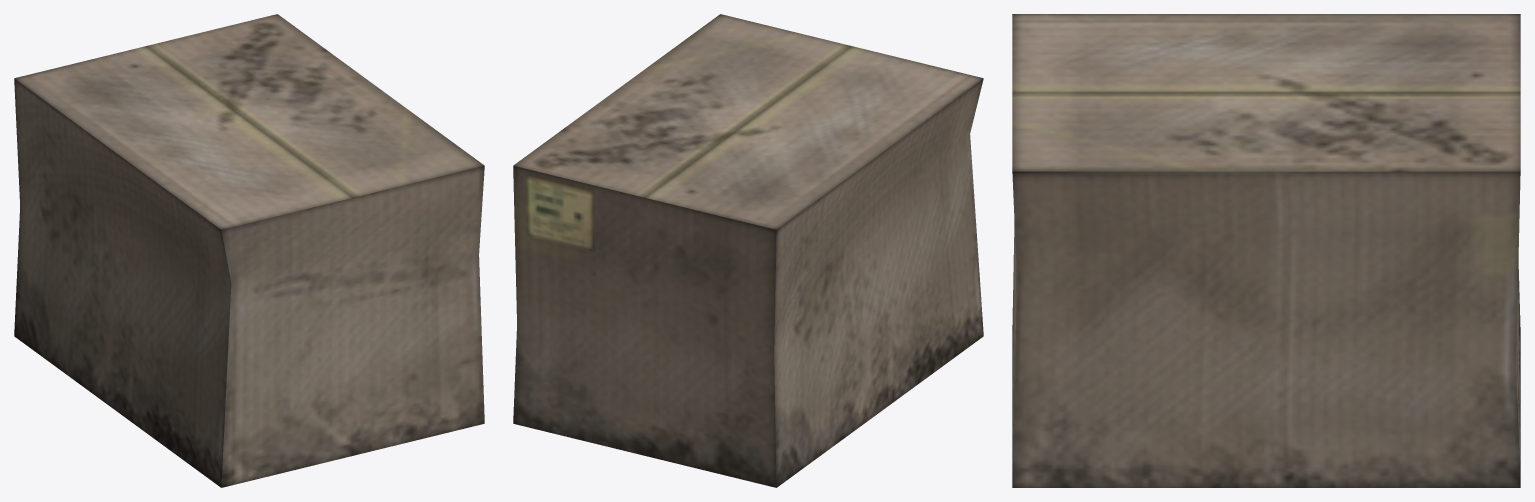
The model's file is carton_large.fbx.
3 renders of one model, left to right at view 1: azimuth 30°, elevation 25°; view 2: azimuth 150°, elevation 25°; view 3: azimuth 270°, elevation 25°, orthographic. The views are drawn at different scales.
Parts seen in each view (by area): view 1: pCube83; view 2: pCube83; view 3: pCube83.
Boxes of the visible parts, x1=… form: pCube83: x1=14, y1=14, x2=484, y2=487; pCube83: x1=513, y1=14, x2=983, y2=487; pCube83: x1=1012, y1=14, x2=1520, y2=487.
Bounding box in the file's own units: 78.36 × 73.35 × 107.
